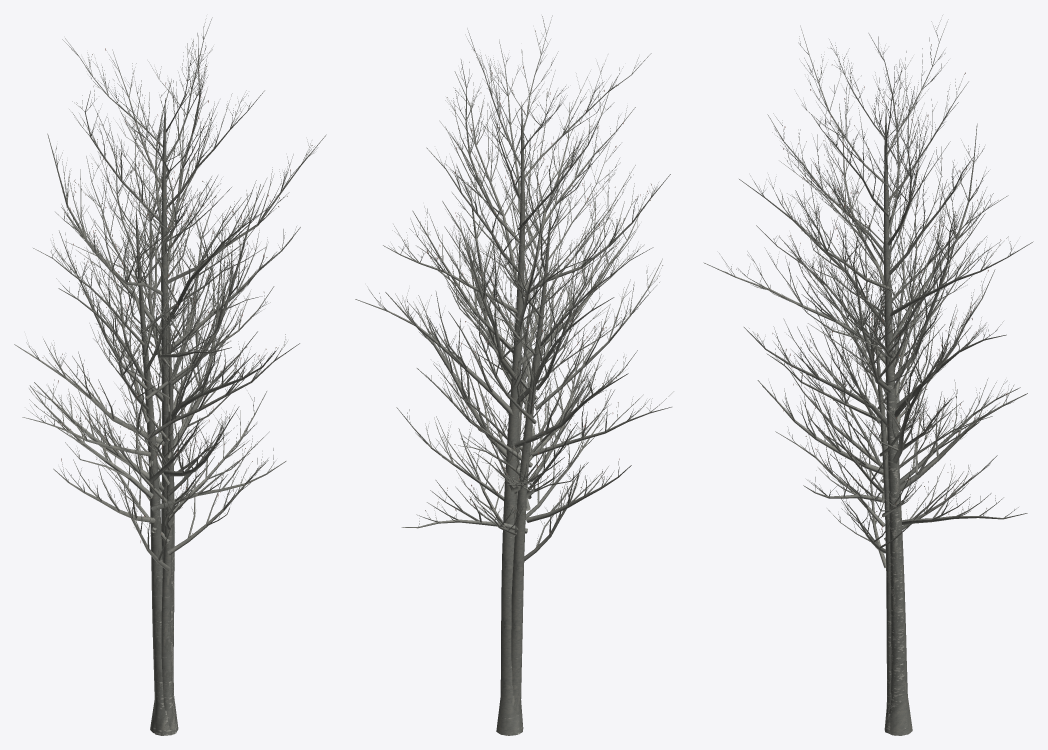
The model's file is red_alder.glb.
3 renders of one model, left to right at view 1: azimuth 30°, elevation 25°; view 2: azimuth 150°, elevation 25°; view 3: azimuth 270°, elevation 25°, orthographic. The views are drawn at different scales.
Parts seen in each view (by area): view 1: RedAlder3, RedAlder2, RedAlder1, RedAlder3Far, RedAlder2Far, RedAlder1Far; view 2: RedAlder3, RedAlder2, RedAlder1, RedAlder3Far, RedAlder2Far, RedAlder1Far; view 3: RedAlder3, RedAlder2, RedAlder1, RedAlder3Far, RedAlder1Far, RedAlder2Far.
Part boxes in pixels (left/top/right/bottom): RedAlder3: left=14, top=18, right=325, bottom=734; RedAlder2: left=22, top=118, right=299, bottom=735; RedAlder1: left=82, top=243, right=269, bottom=735; RedAlder3Far: left=21, top=19, right=312, bottom=730; RedAlder2Far: left=32, top=117, right=296, bottom=733; RedAlder1Far: left=88, top=248, right=266, bottom=734; RedAlder3: left=355, top=15, right=669, bottom=735; RedAlder2: left=402, top=127, right=673, bottom=727; RedAlder1: left=396, top=227, right=637, bottom=561; RedAlder3Far: left=356, top=32, right=670, bottom=735; RedAlder2Far: left=408, top=131, right=669, bottom=717; RedAlder1Far: left=412, top=246, right=626, bottom=560; RedAlder3: left=705, top=15, right=1032, bottom=735; RedAlder2: left=756, top=115, right=1027, bottom=524; RedAlder1: left=775, top=229, right=997, bottom=733; RedAlder3Far: left=704, top=26, right=1014, bottom=735; RedAlder1Far: left=776, top=261, right=980, bottom=731; RedAlder2Far: left=762, top=145, right=1017, bottom=525.
Bounding box in the file's own units: 8.48 × 21.04 × 9.14.
3 materials, 1 textured.
